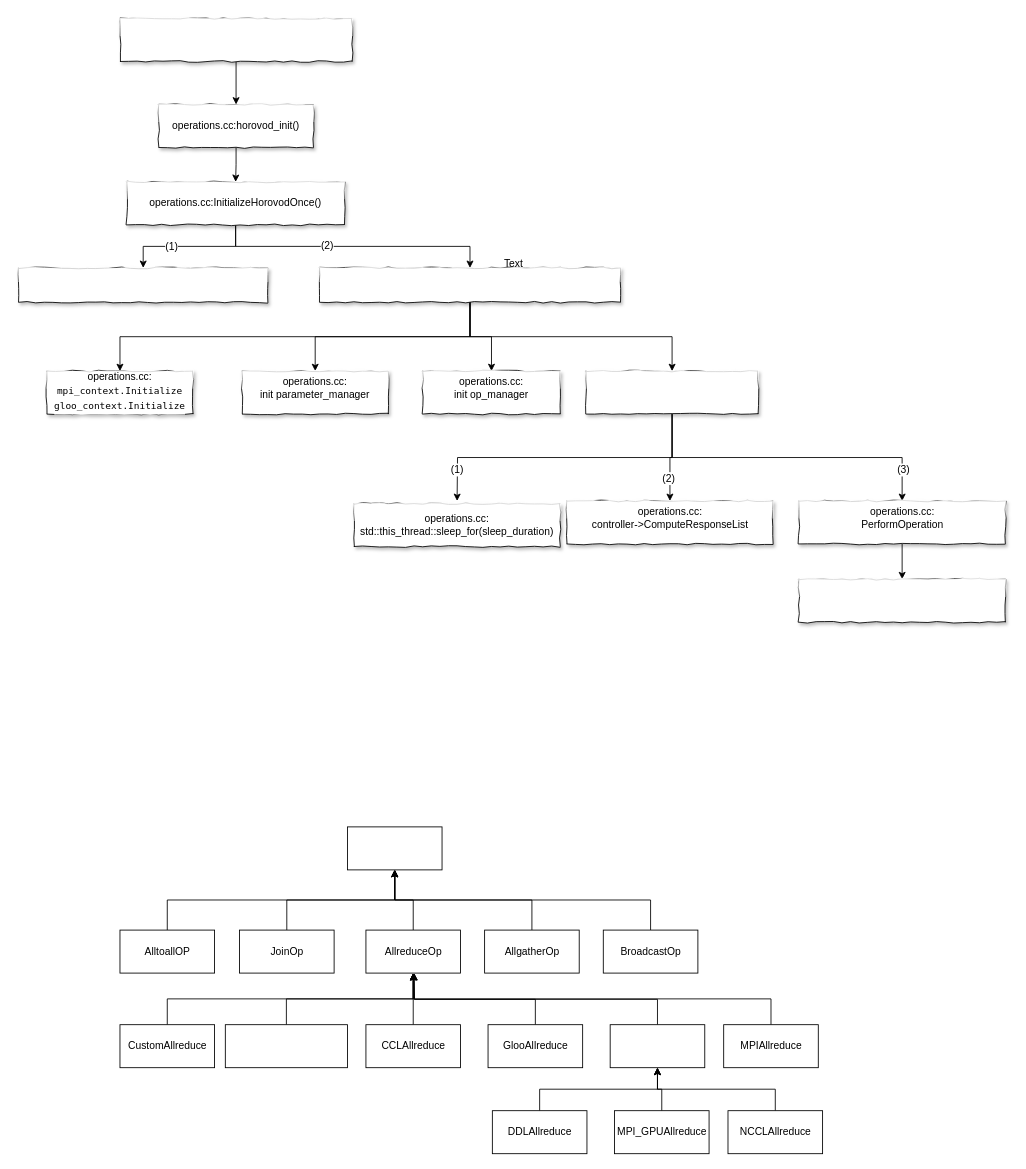
This 1026x1169 diagram has some shape labels left out. Here are the shapes that lost their labels. From the top down, the centre of each, then its label:
(236,41): horovod.common.horvod.Basics .init()
(143,286): operations.cc: horovod_global.controller.reset(new MPIController())
(470,286): operations.cc: std::thread(BackgroundThreadLoop, std::ref(horovod_global))
(672,393): operations.cc: while (RunLoopOnce(state));
(902,601): operations.cc: op_manager->ExcuteOperation
(394,848): HorovodOP
(285,1046): AdasumMPIAllreduceOp
(657,1046): GPUAllreduce
